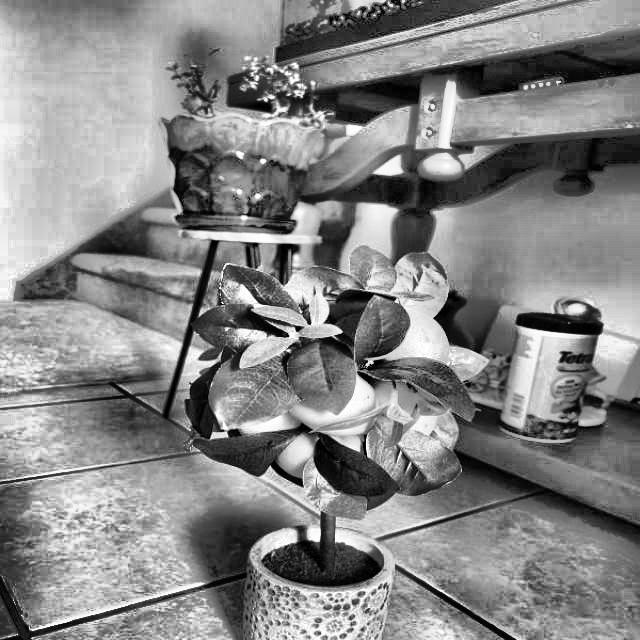plants: (178, 266, 597, 535), (133, 8, 353, 121)
